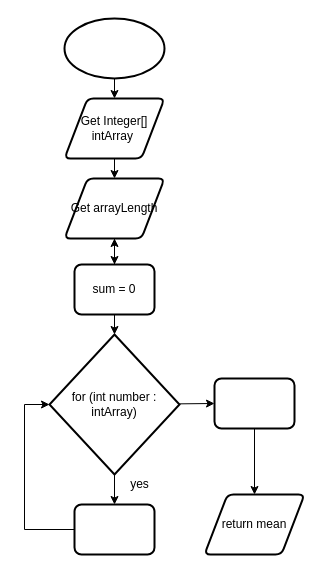
Some shapes in this 323 by 572 pixel diagram are drawn without their labels. Here are the shapes that lost their labels. From the top down, the box of each, then its label:
(63, 17, 165, 79): Start
(213, 377, 295, 429): sum / arrayLength
(73, 503, 155, 555): sum += number
